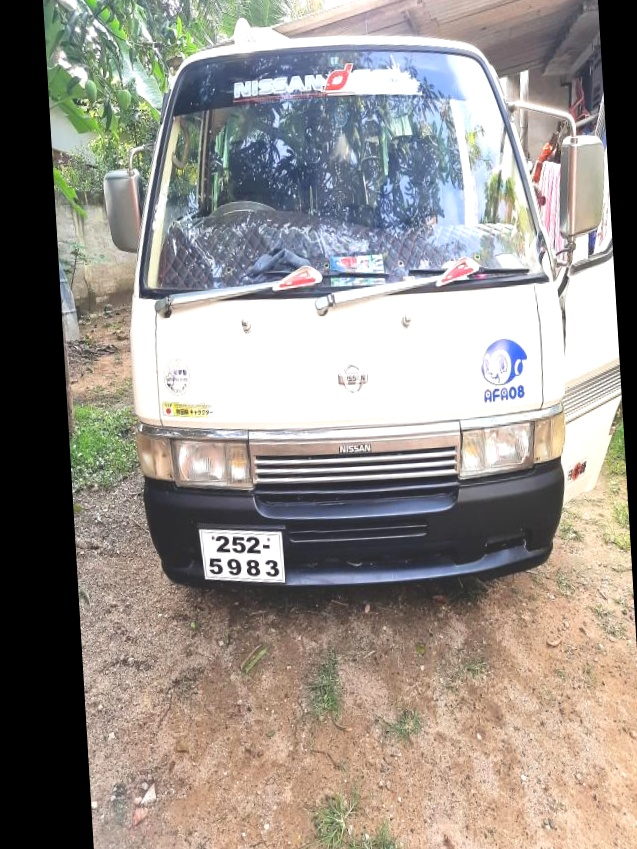van: (103, 0, 587, 636)
